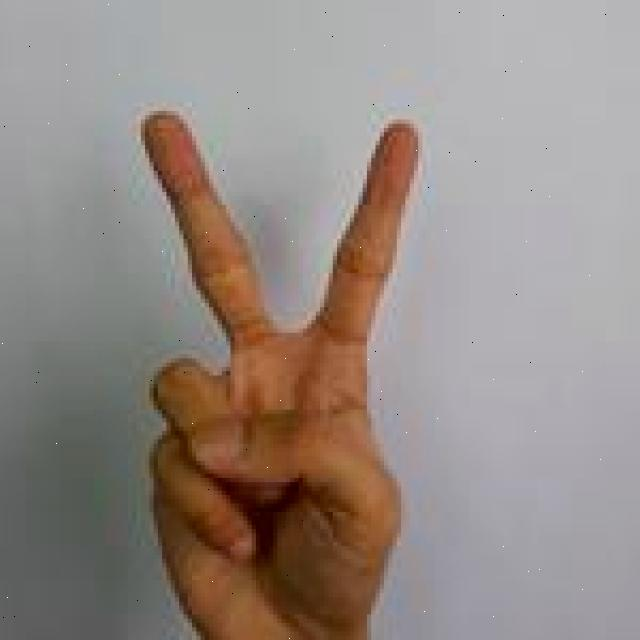V: (123, 101, 429, 640)
